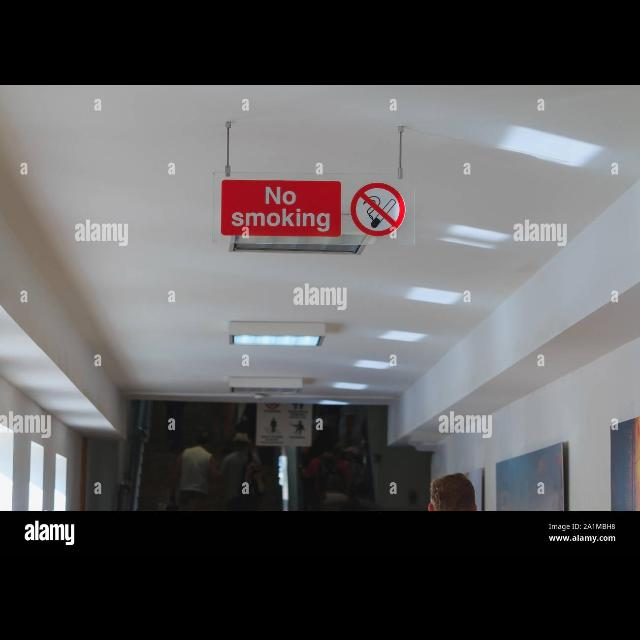cam hut thuoc: (213, 173, 415, 245)
